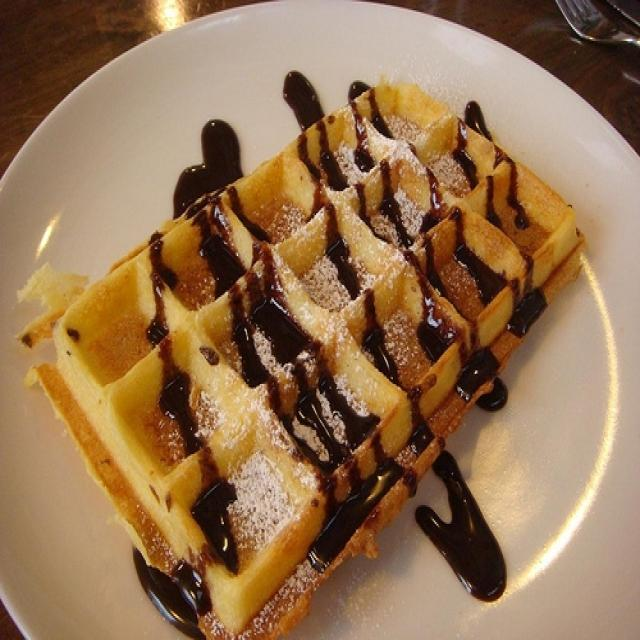炸货点心: (12, 21, 608, 633)
蛋糕甜品: (12, 21, 608, 633)
